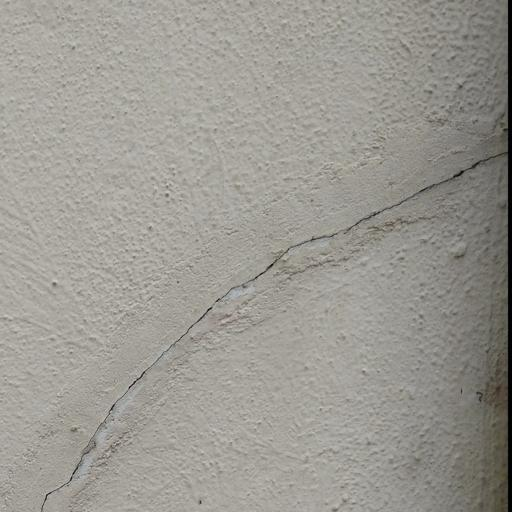minor_crack: (36, 140, 507, 512)
